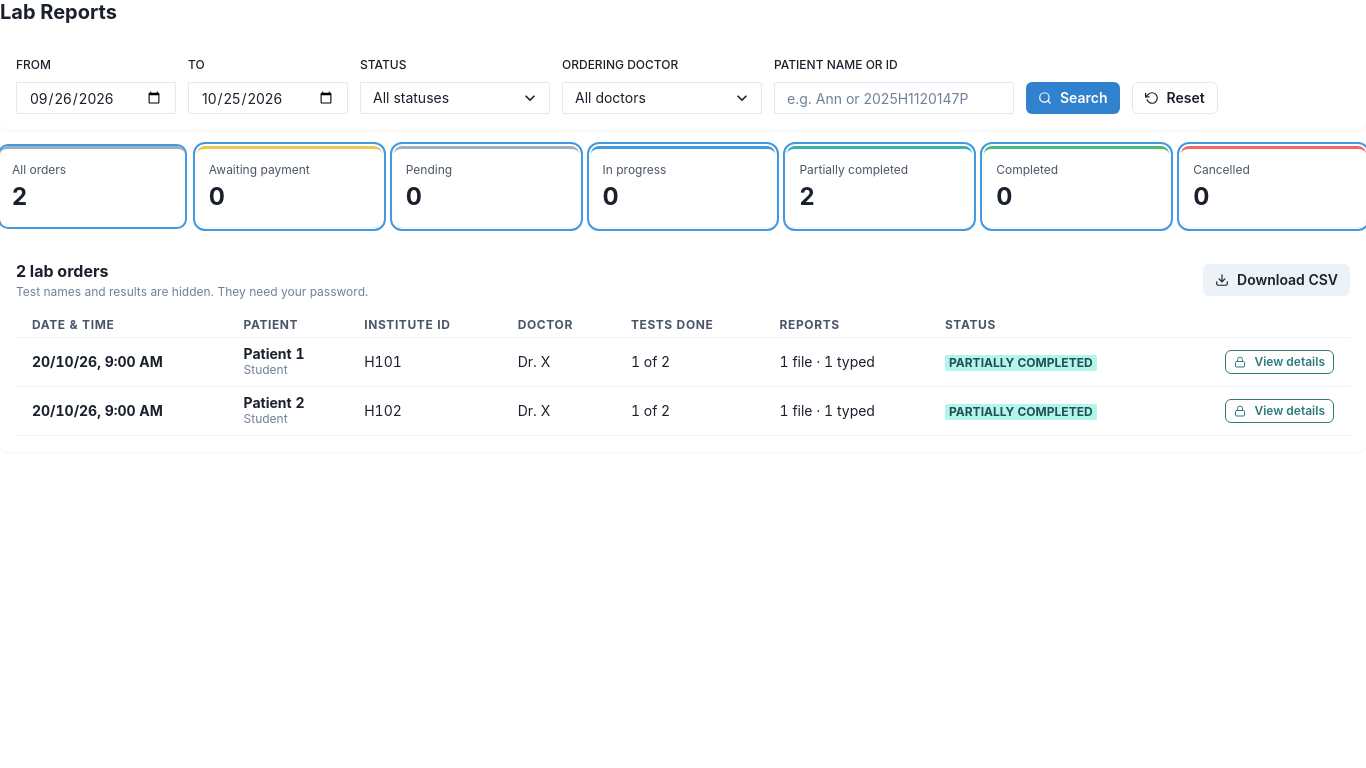
Scenario: Admin Reports - password-protected results › before the password › Cancel closes the prompt and loads nothing
expect the text "Patient 1" is shown: met, box [244,345,304,362]
Step 1. Click the button "View details" in the row of "Patient 1" → click(1280, 362), box [1226,350,1334,374]
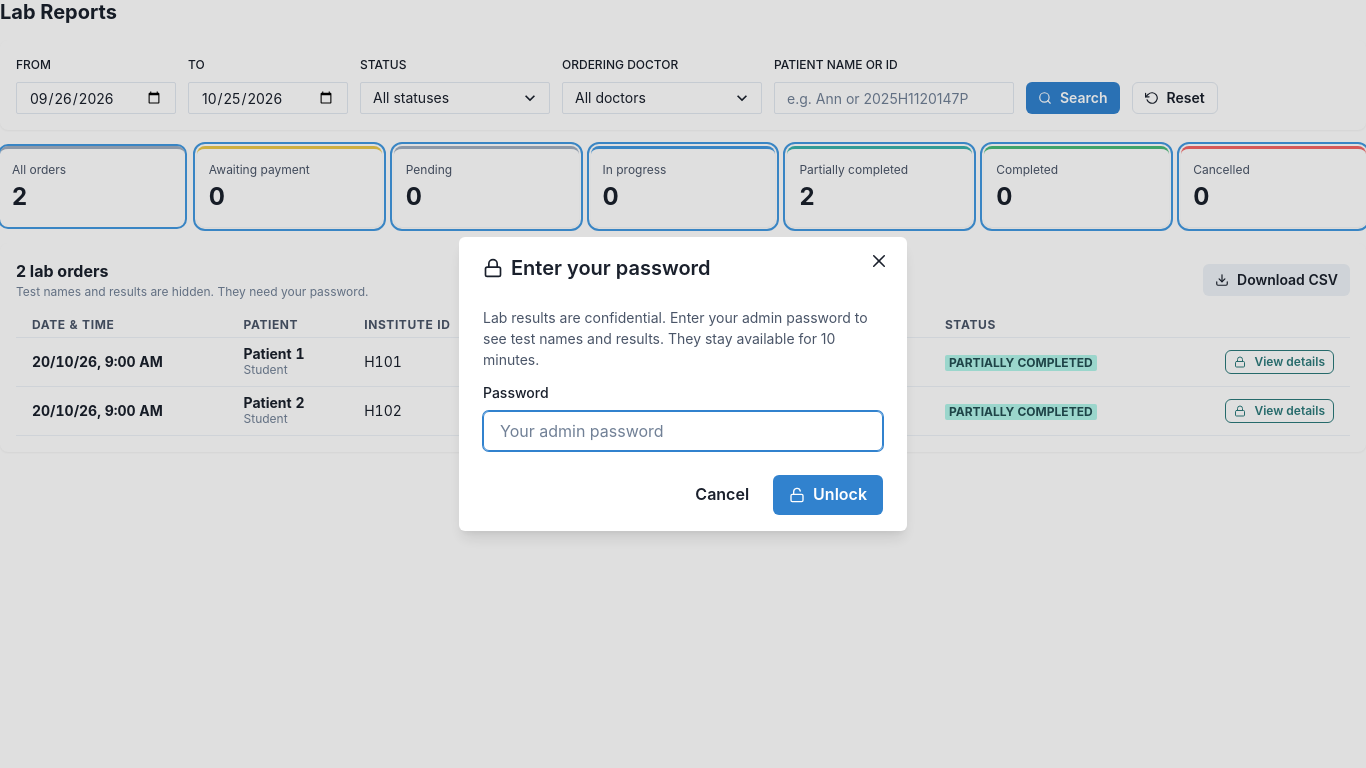
Step 2. Click the button "Cancel" → click(722, 495), box [679,475,765,515]
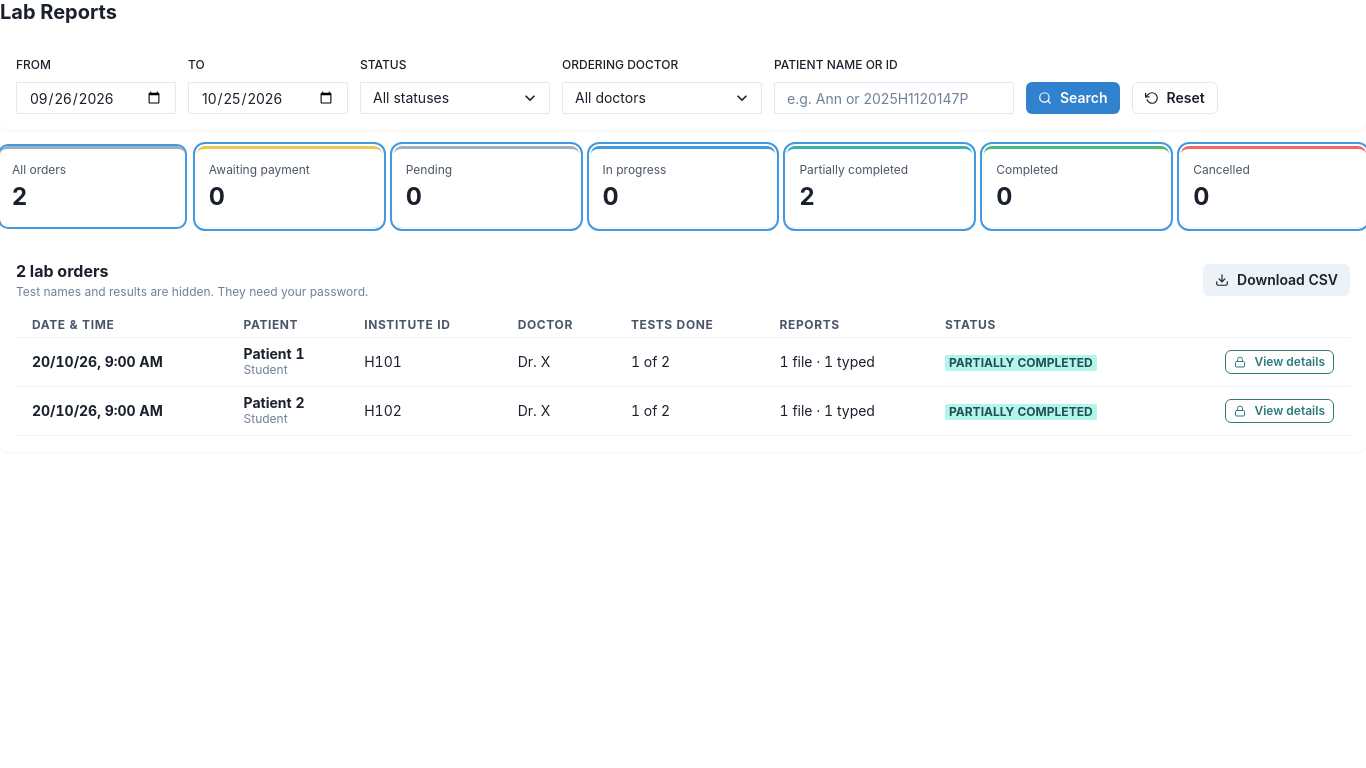
expect the text with placeholder "your admin password" is gone: met
